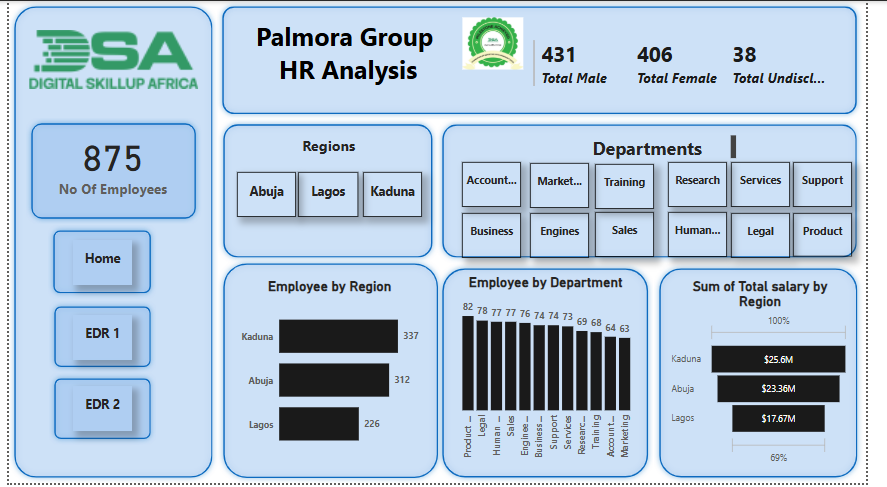

What the dashboard file says about the page in this screenshot:
{"tool":"powerbi","page":{"name":"EDR 1","canvas":[1280,720],"ordinal":1},"visuals":[{"type":"shape","box":[0,0,312,720],"z":0},{"type":"shape","box":[311.1,0,963.6,177],"z":1000},{"type":"textbox","box":[340,21.7,321.7,133.3],"z":2000},{"type":"shape","box":[640,176.7,635,215],"z":3000},{"type":"shape","title":"Region","box":[311.7,176.7,328.3,215],"z":4000},{"type":"shape","box":[311.7,383.3,336.7,336.7],"z":5000},{"type":"shape","box":[640,391.7,323.3,328.3],"z":6000},{"type":"columnChart","fields":{"Y":["Palmoria Group emp-data 2.Name"],"Category":["Palmoria Group emp-data 2.Department"]},"box":[661.7,408.3,280,286.7],"z":7000},{"type":"shape","box":[25,175,261.7,158.3],"z":8000},{"type":"card","fields":{"Values":["Palmoria Group emp-data 2.Name"]},"box":[48.3,176.7,215,130],"z":9000},{"type":"shape","box":[963.3,391.7,311.7,328.3],"z":10000},{"type":"funnel","fields":{"Category":["Palmoria Group emp-data 2.Location"],"Y":["Palmoria Group emp-data 2.Total salary "]},"box":[985,413.3,275,285],"z":11000},{"type":"clusteredBarChart","fields":{"Category":["Palmoria Group emp-data 2.Location"],"Y":["Palmoria Group emp-data 2.Name"]},"box":[340,413.3,276.7,276.7],"z":12000},{"type":"textbox","box":[401.7,195,151.7,46.7],"z":13000},{"type":"textbox","box":[340,255,88.3,66.7],"z":14000},{"type":"textbox","box":[528.3,255,88.3,66.7],"z":15000},{"type":"textbox","box":[431.7,255,90,66.7],"z":16000},{"type":"textbox","box":[823.3,195,268.3,45],"z":17000},{"type":"textbox","box":[676.7,316.7,88.3,66.7],"z":18000},{"type":"textbox","box":[778.3,316.7,88.3,66.7],"z":19000},{"type":"textbox","box":[875,315,88.3,66.7],"z":20000},{"type":"textbox","box":[985,315,88.3,66.7],"z":21000},{"type":"textbox","box":[1078.3,316.7,88.3,66.7],"z":22000},{"type":"textbox","box":[1171.7,316.7,88.3,65],"z":23000},{"type":"textbox","box":[676.7,240,88.3,66.7],"z":24000},{"type":"textbox","box":[778.3,241.7,88.3,66.7],"z":25000},{"type":"textbox","box":[875,243.3,88.3,66.7],"z":26000},{"type":"textbox","box":[985,240,88.3,66.7],"z":27000},{"type":"textbox","box":[1078.3,240,88.3,66.7],"z":28000},{"type":"textbox","box":[1171.7,240,88.3,66.7],"z":29000},{"type":"shape","box":[60,448.3,160,106.7],"z":30000},{"type":"shape","box":[58.3,335,161.7,110],"z":31000},{"type":"shape","box":[60,555,160,106.7],"z":32000},{"type":"textbox","box":[95,575,88.3,66.7],"z":33000},{"type":"textbox","box":[95,468.3,88.3,66.7],"z":34000},{"type":"textbox","box":[95,356.7,88.3,66.7],"z":35000},{"type":"image","box":[25,20,261.7,135],"z":36000},{"type":"image","box":[656.7,20,130,88.3],"z":37000},{"type":"multiRowCard","fields":{"Values":["Palmoria Group emp-data 2.Total Male","Palmoria Group emp-data 2.Total Female","Palmoria Group emp-data 2.Total Undisclosed"]},"box":[777.7,39.3,450.5,135.9],"z":38000}]}

Visuals, with their boxes in screenshot pixels (x1, y1, x2, y2), scaled from the page's 1280x720 canvas onto the 887x487 screenshot:
shape: select_region(0, 0, 216, 486)
shape: select_region(216, 0, 883, 120)
textbox: select_region(236, 15, 459, 105)
shape: select_region(444, 120, 884, 265)
"Region" shape: select_region(216, 120, 444, 265)
shape: select_region(216, 259, 449, 486)
shape: select_region(444, 265, 668, 486)
columnChart - Palmoria Group emp-data 2.Name x Palmoria Group emp-data 2.Department: select_region(459, 276, 653, 470)
shape: select_region(17, 118, 199, 225)
card - Palmoria Group emp-data 2.Name: select_region(33, 120, 182, 207)
shape: select_region(668, 265, 884, 486)
funnel - Palmoria Group emp-data 2.Location x Palmoria Group emp-data 2.Total salary : select_region(683, 280, 873, 472)
clusteredBarChart - Palmoria Group emp-data 2.Location x Palmoria Group emp-data 2.Name: select_region(236, 280, 427, 467)
textbox: select_region(278, 132, 383, 163)
textbox: select_region(236, 172, 297, 218)
textbox: select_region(366, 172, 427, 218)
textbox: select_region(299, 172, 362, 218)
textbox: select_region(571, 132, 756, 162)
textbox: select_region(469, 214, 530, 259)
textbox: select_region(539, 214, 601, 259)
textbox: select_region(606, 213, 668, 258)
textbox: select_region(683, 213, 744, 258)
textbox: select_region(747, 214, 808, 259)
textbox: select_region(812, 214, 873, 258)
textbox: select_region(469, 162, 530, 207)
textbox: select_region(539, 163, 601, 209)
textbox: select_region(606, 165, 668, 210)
textbox: select_region(683, 162, 744, 207)
textbox: select_region(747, 162, 808, 207)
textbox: select_region(812, 162, 873, 207)
shape: select_region(42, 303, 152, 375)
shape: select_region(40, 227, 152, 301)
shape: select_region(42, 375, 152, 448)
textbox: select_region(66, 389, 127, 434)
textbox: select_region(66, 317, 127, 362)
textbox: select_region(66, 241, 127, 286)
image: select_region(17, 14, 199, 105)
image: select_region(455, 14, 545, 73)
multiRowCard - Palmoria Group emp-data 2.Total Male x Palmoria Group emp-data 2.Total Female: select_region(539, 27, 851, 119)
